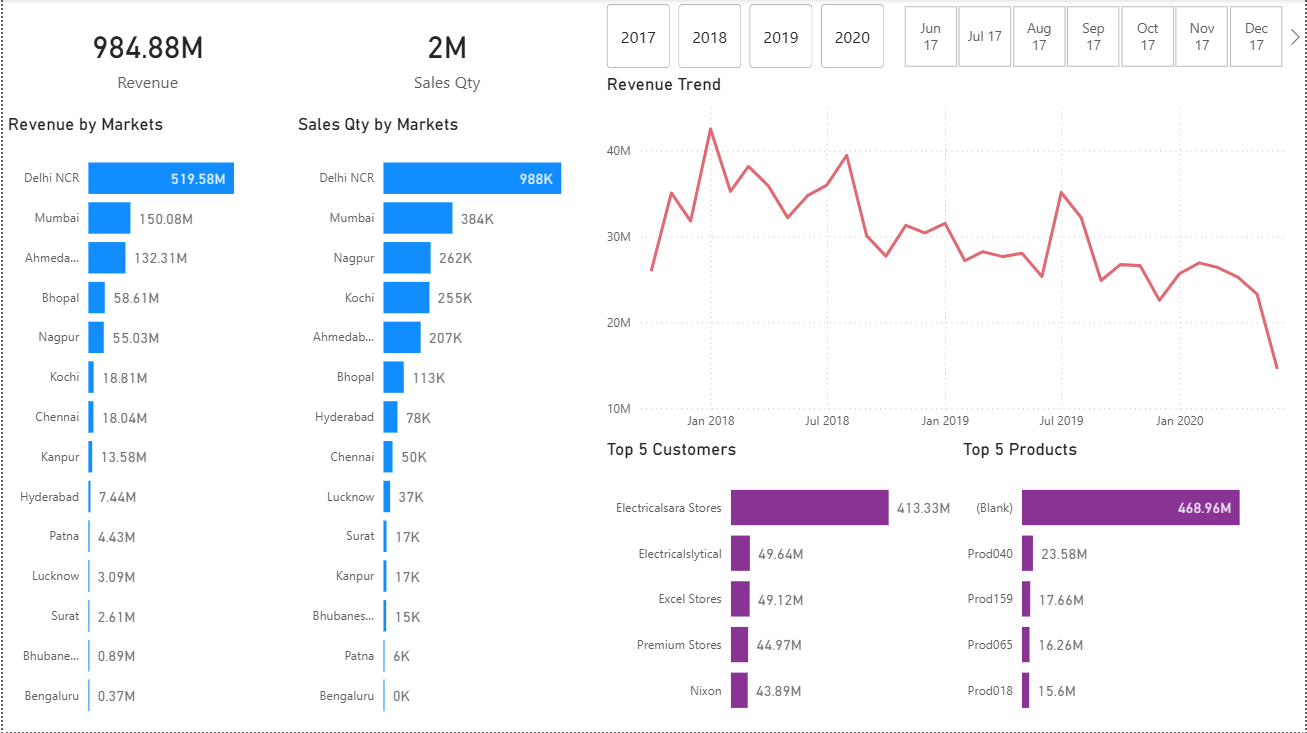

The page's visual inventory and layout, read from the dashboard file:
{"tool":"powerbi","page":{"name":"Page 1","canvas":[1280,720],"ordinal":0},"visuals":[{"type":"card","fields":{"Values":["BaseMeasures.Revenue"]},"box":[0,0,284.7,112.9],"z":0},{"type":"card","fields":{"Values":["BaseMeasures.Sales Qty"]},"box":[284.7,0,303.1,112.9],"z":1000},{"type":"barChart","title":"Revenue by Markets","fields":{"Y":["BaseMeasures.Revenue"],"Category":["sales markets.markets_name"]},"box":[0,112.9,284.7,607.4],"z":2000},{"type":"slicer","fields":{"Values":["sales date.cy_date"]},"box":[858.9,0,420.9,73.6],"z":2500},{"type":"barChart","title":"Sales Qty by Markets","fields":{"Category":["sales markets.markets_name"],"Y":["BaseMeasures.Sales Qty"]},"box":[284.7,112.9,303.1,607.4],"z":3000},{"type":"advancedSlicerVisual","fields":{"Values":["sales date.year"]},"box":[587.7,0,283.4,73.6],"z":4000},{"type":"barChart","title":"Top 5 Customers","fields":{"Category":["sales customers.custmer_name"],"Y":["BaseMeasures.Revenue"]},"box":[587.7,431.9,349.7,288.3],"z":6000},{"type":"barChart","title":"Top 5 Products","fields":{"Y":["BaseMeasures.Revenue"],"Category":["sales products.product_code"]},"box":[937.4,431.9,342.3,288.3],"z":7000},{"type":"lineChart","title":"Revenue Trend","fields":{"Y":["BaseMeasures.Revenue"],"Category":["sales date.cy_date.Variation.Date Hierarchy.Year","sales date.cy_date.Variation.Date Hierarchy.Quarter","sales date.cy_date.Variation.Date Hierarchy.Month","sales date.cy_date.Variation.Date Hierarchy.Day"]},"box":[587.7,73.6,692,358.3],"z":8000}]}

Visuals, with their boxes in screenshot pixels (x1, y1, x2, y2), scaled from the page's 1280x720 canvas onto the 1307x733 screenshot:
card - BaseMeasures.Revenue: <bbox>0, 0, 291, 115</bbox>
card - BaseMeasures.Sales Qty: <bbox>291, 0, 600, 115</bbox>
"Revenue by Markets" barChart: <bbox>0, 115, 291, 732</bbox>
slicer - sales date.cy_date: <bbox>877, 0, 1306, 75</bbox>
"Sales Qty by Markets" barChart: <bbox>291, 115, 600, 732</bbox>
advancedSlicerVisual - sales date.year: <bbox>600, 0, 889, 75</bbox>
"Top 5 Customers" barChart: <bbox>600, 440, 957, 732</bbox>
"Top 5 Products" barChart: <bbox>957, 440, 1306, 732</bbox>
"Revenue Trend" lineChart: <bbox>600, 75, 1306, 440</bbox>
